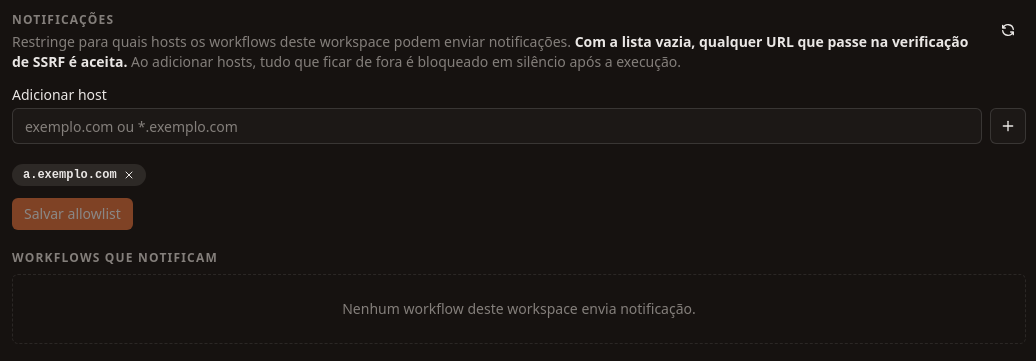
Test: Notificações — o rascunho e o Atualizar › sem edição, o Atualizar traz a allowlist nova para o rascunho
Expected: the text "a.exemplo.com" is shown, x1=12 y1=164 x2=146 y2=186
Click the button named "Atualizar allowlist": (1008, 30) x1=990 y1=12 x2=1026 y2=48
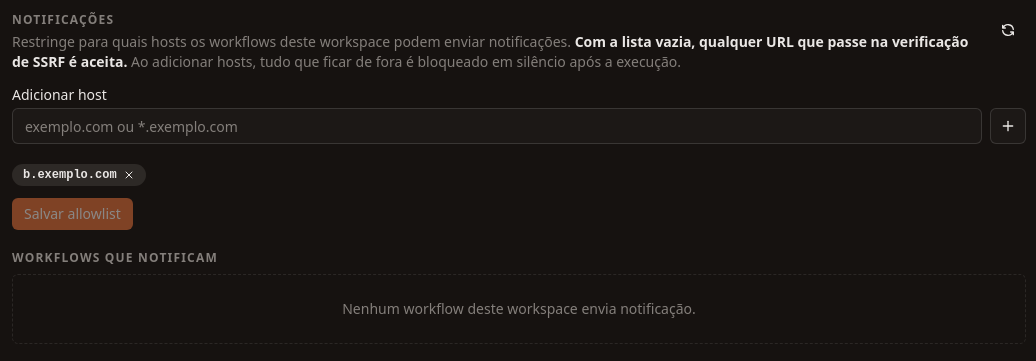
Now the text "b.exemplo.com" is shown, box x1=12 y1=164 x2=146 y2=186
Now the text "a.exemplo.com" is gone
